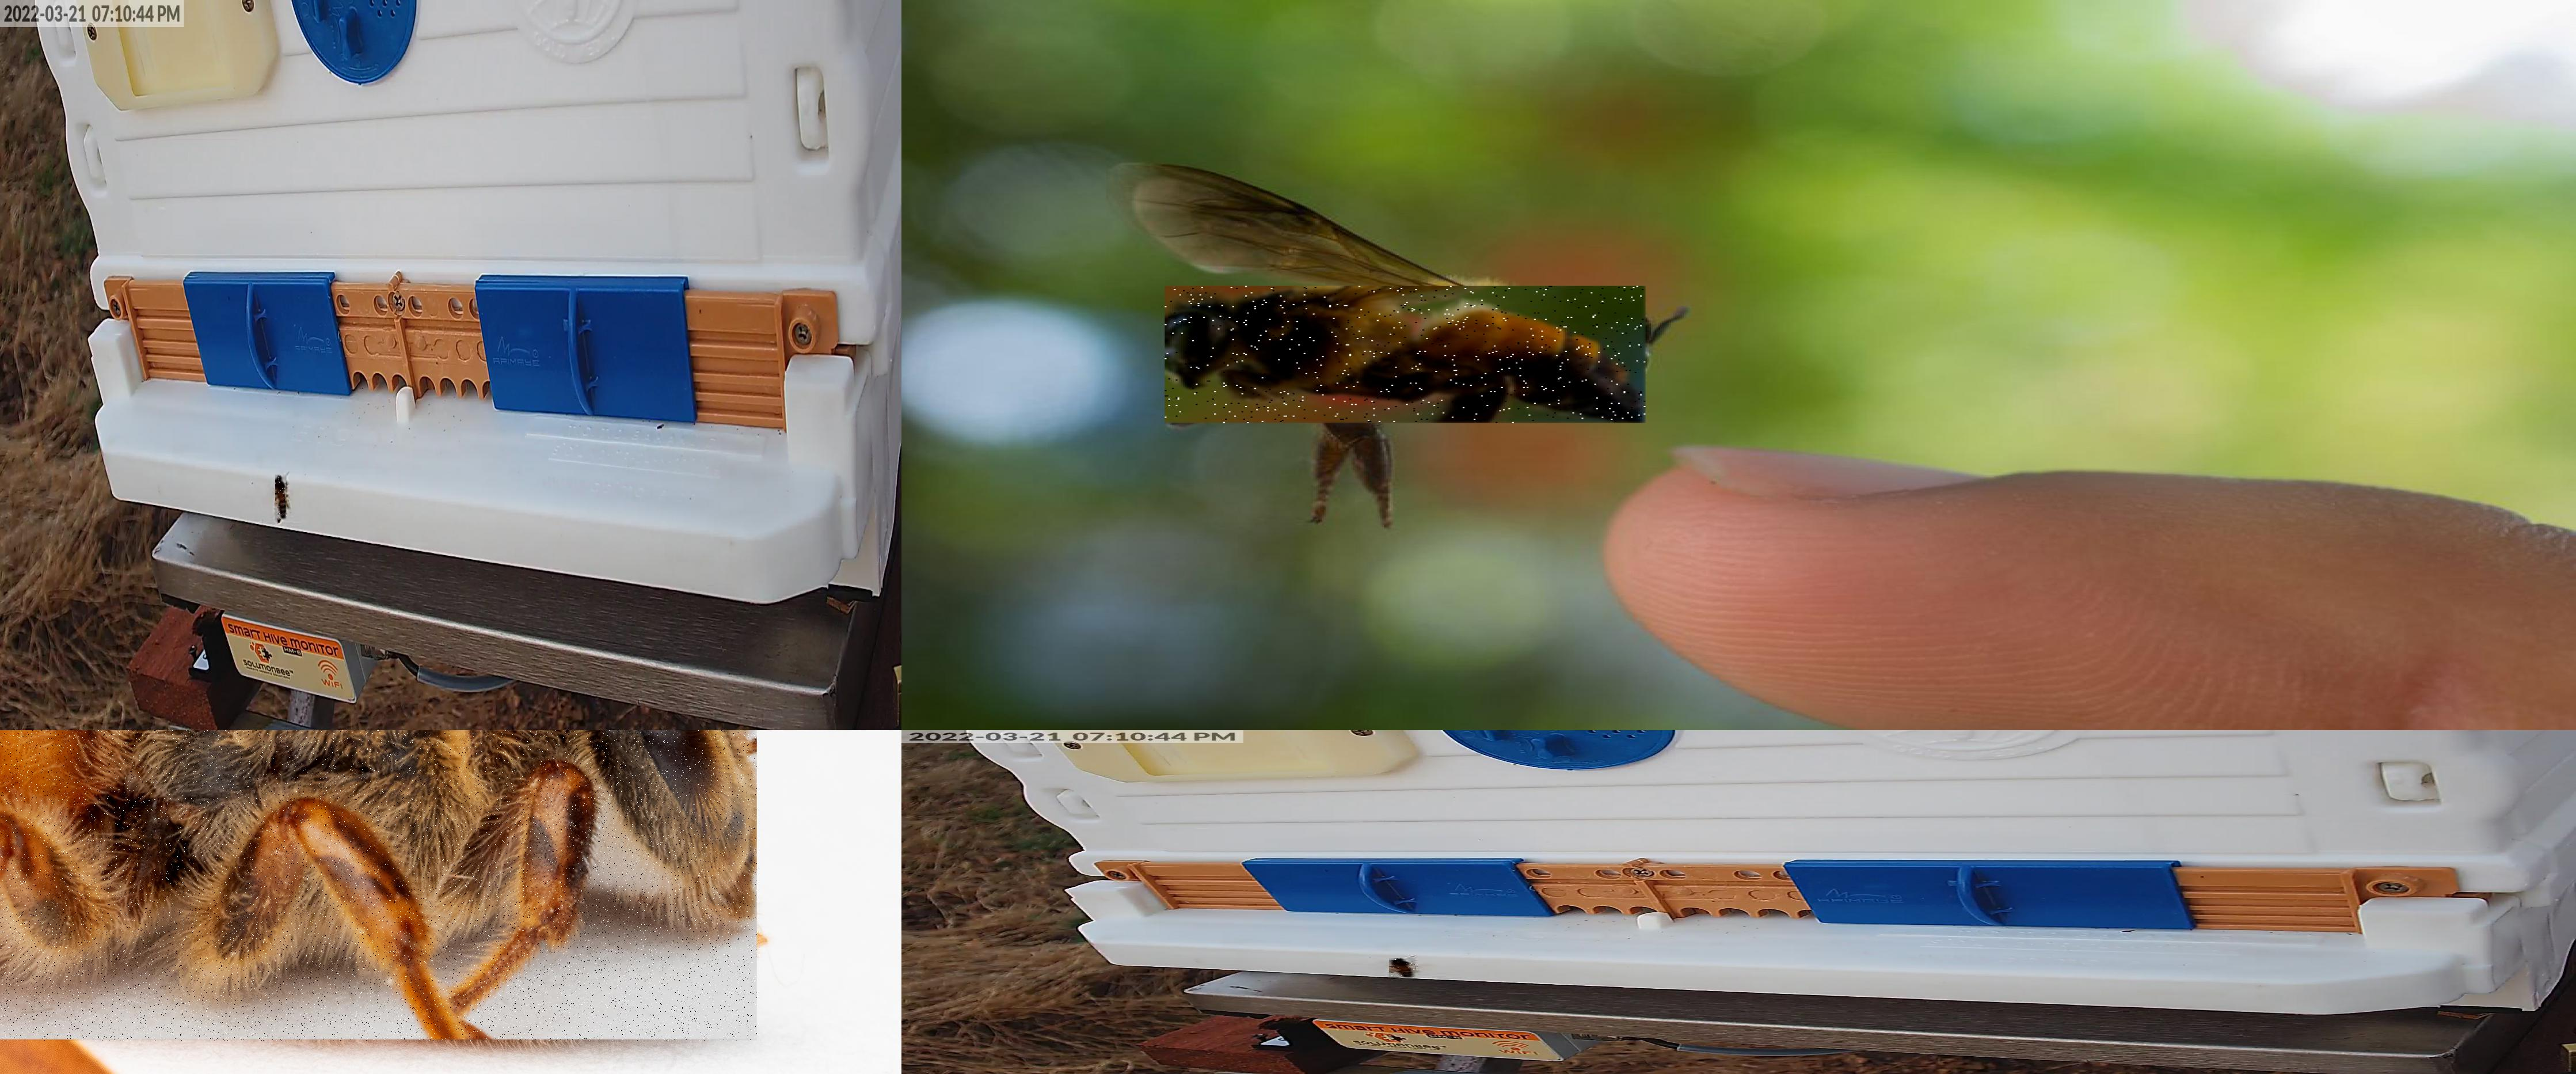bee: (1165, 286, 1647, 424)
pollenbee: (1390, 958, 1419, 978), (275, 475, 287, 522)
queen: (0, 730, 758, 1042)
